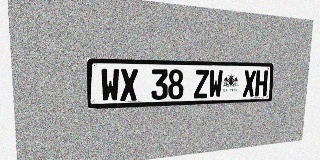3: (151, 69, 168, 100)
8: (168, 69, 184, 99)
H: (255, 70, 268, 96)
W: (101, 68, 120, 102), (208, 70, 223, 98)
X: (120, 69, 138, 101), (242, 70, 256, 97)
Z: (194, 69, 209, 98)
